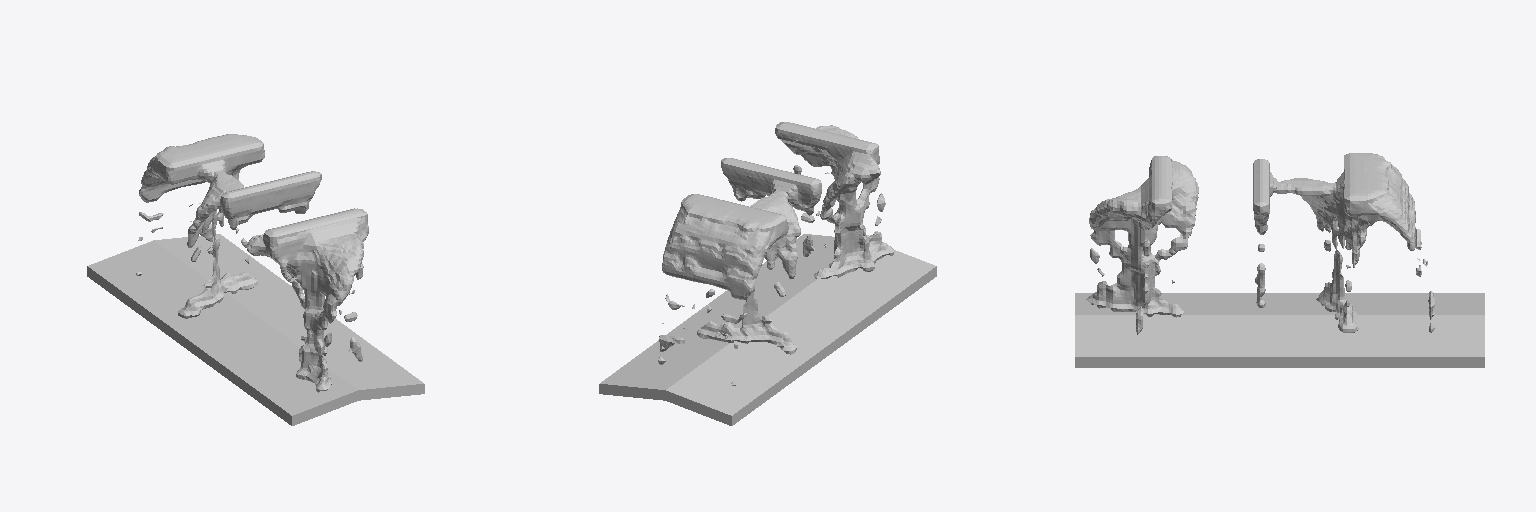
Rendered from Watersim_000019.obj.
3 renders of one model, left to right at view 1: azimuth 30°, elevation 25°; view 2: azimuth 150°, elevation 25°; view 3: azimuth 270°, elevation 25°, orthographic.
Visible parts, largest first — view 1: Straße_Cube.007, Domain_Cube.006; view 2: Domain_Cube.006, Straße_Cube.007; view 3: Straße_Cube.007, Domain_Cube.006.
Part boxes in pixels (x1,y1,x2,y2): Straße_Cube.007: (87,234,424,425); Domain_Cube.006: (136,134,368,392); Domain_Cube.006: (658,122,894,385); Straße_Cube.007: (599,234,936,425); Straße_Cube.007: (1075,293,1484,367); Domain_Cube.006: (1086,153,1434,334).
Bounding box in the file's own units: 2.26 × 2.59 × 6.06.